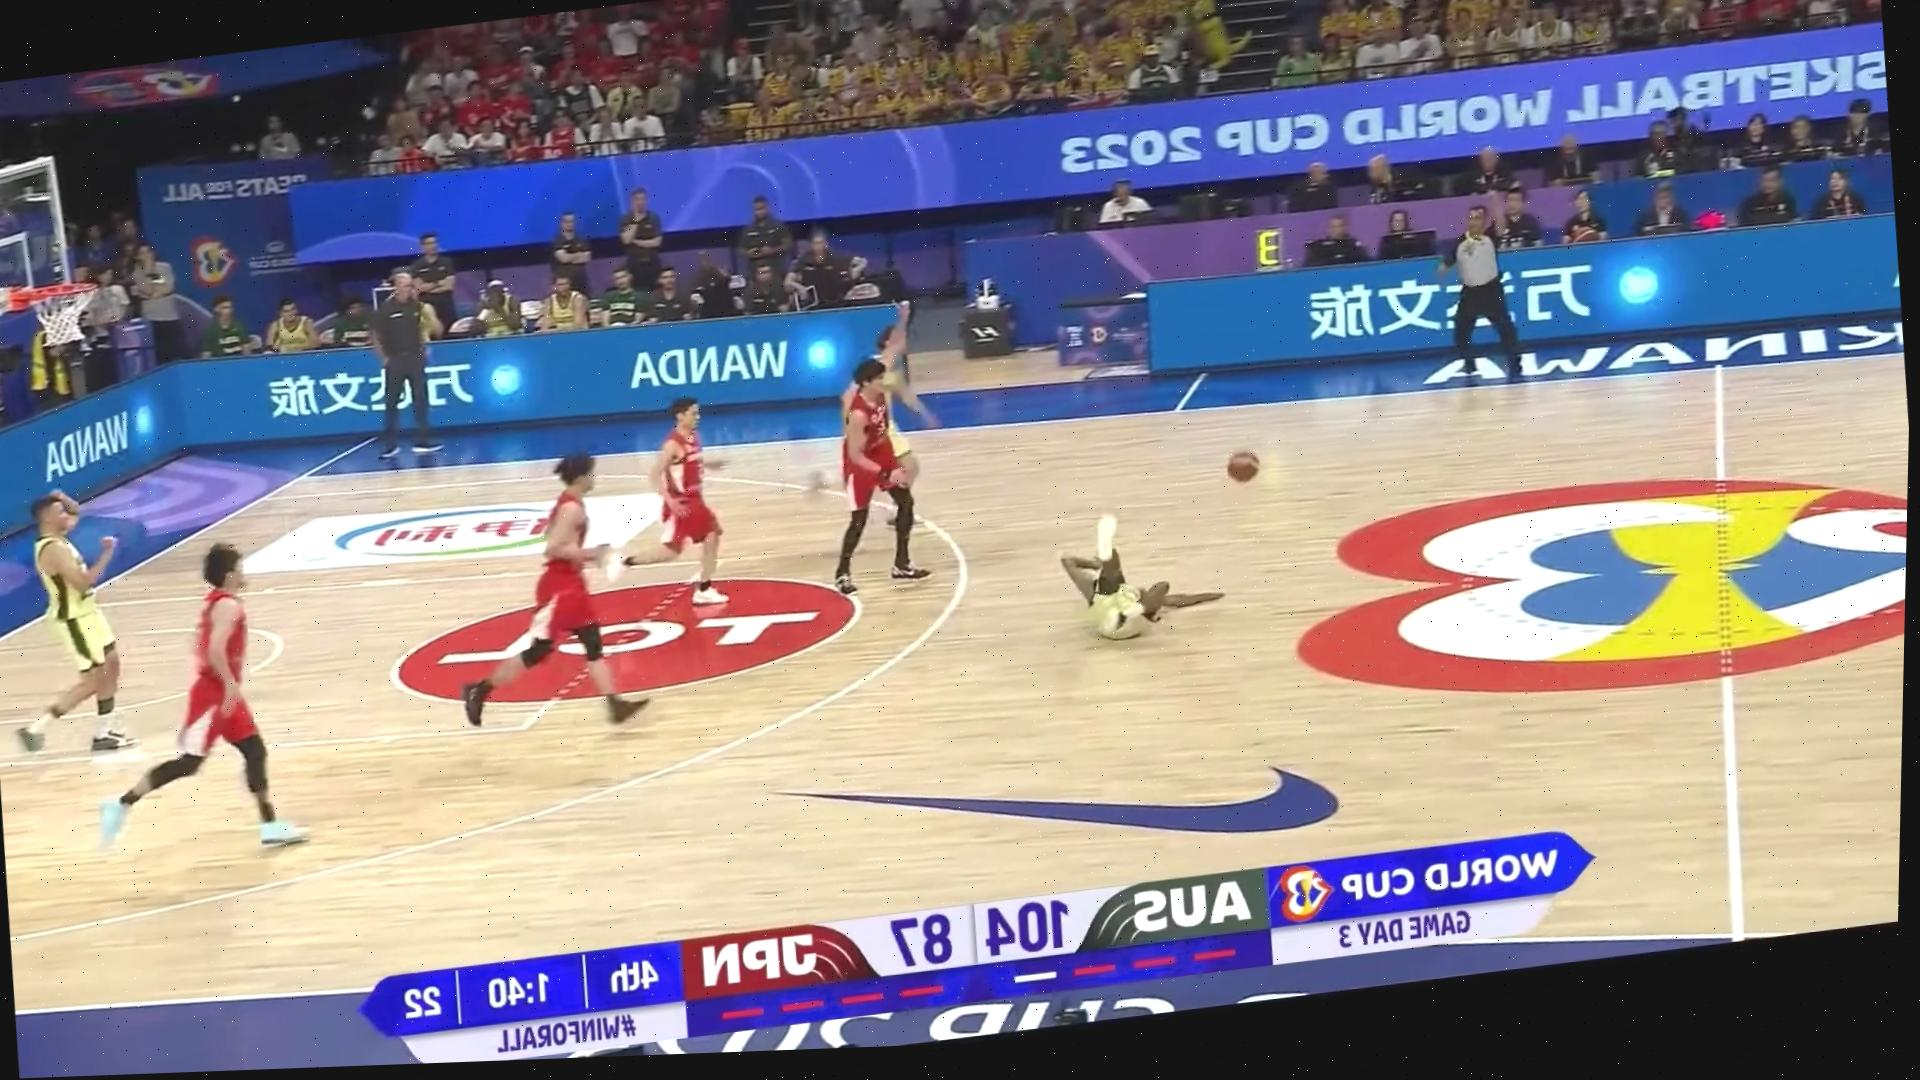foul: (796, 412, 1265, 691)
